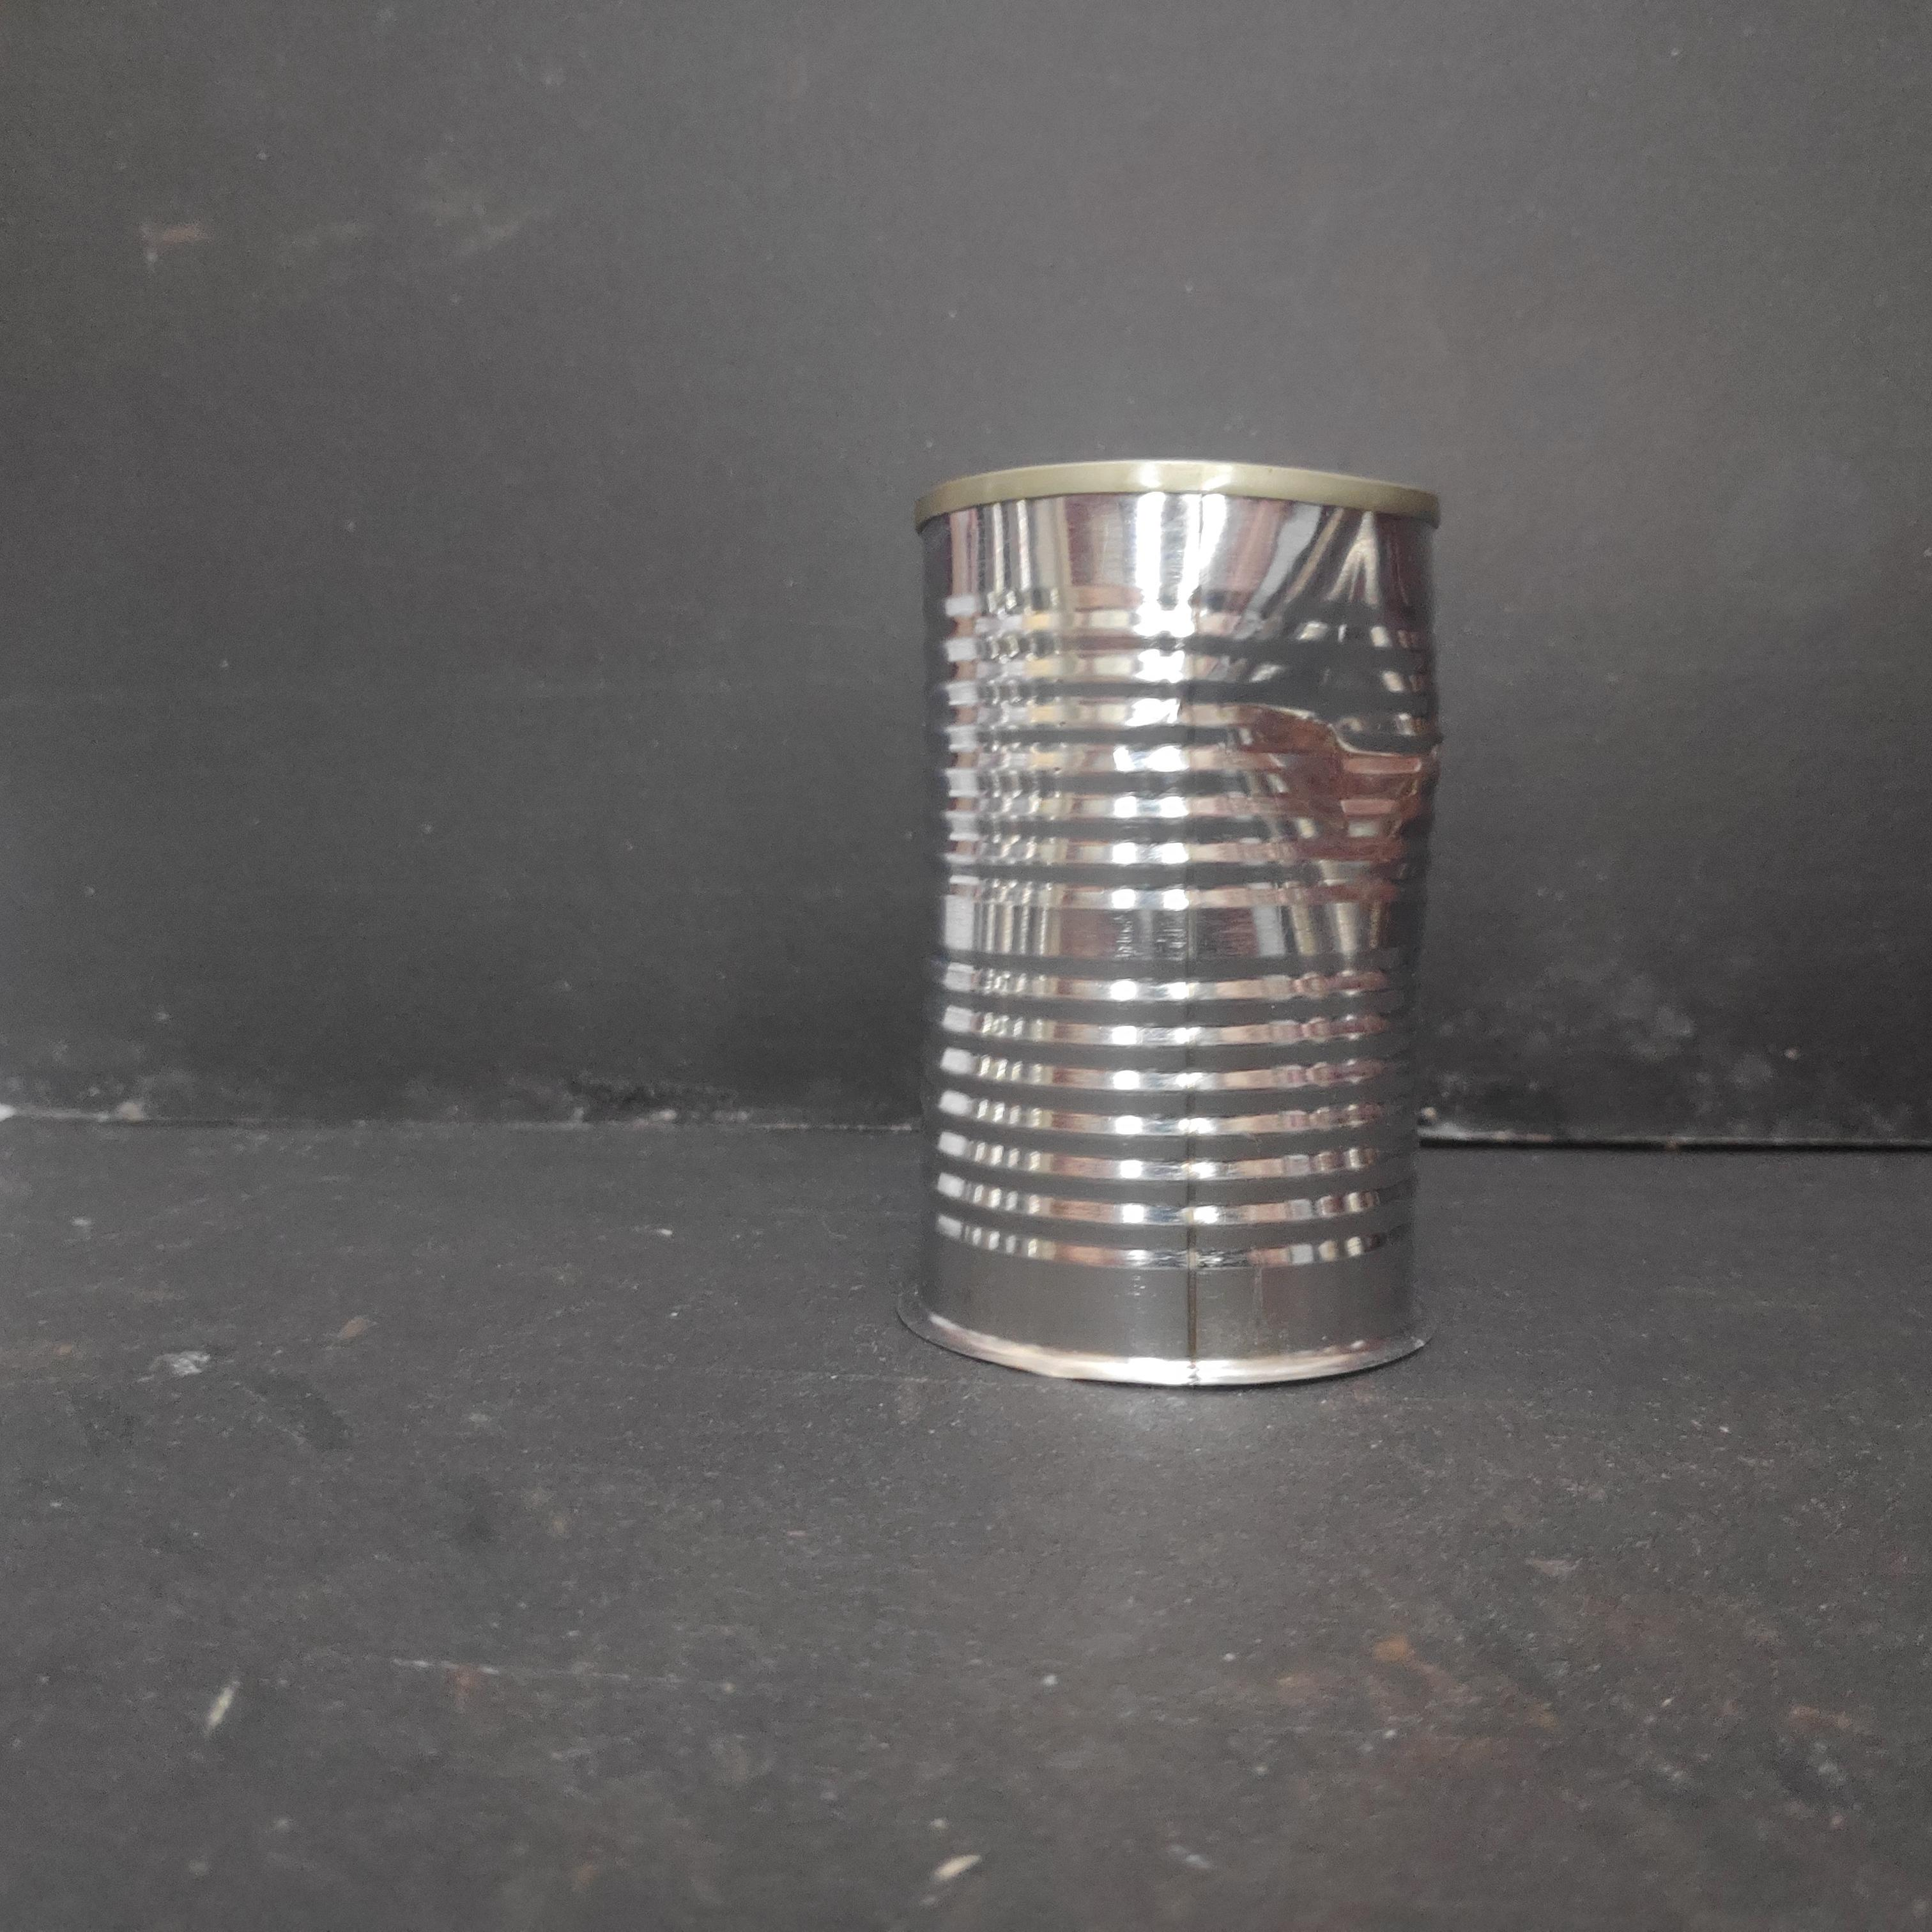Minor Defect: (902, 451, 1463, 1394)
